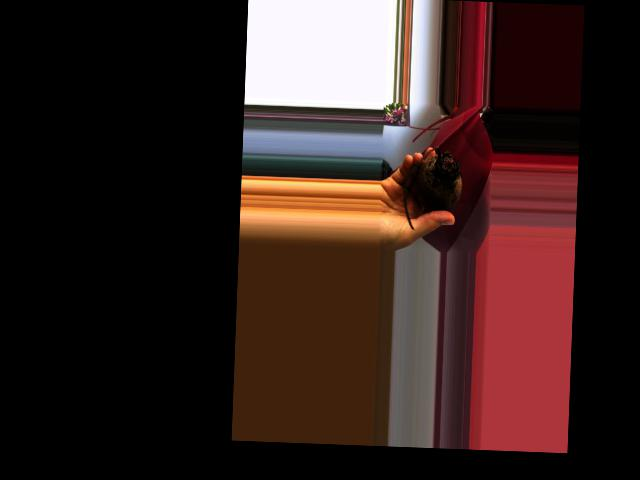beet: (402, 144, 463, 231)
